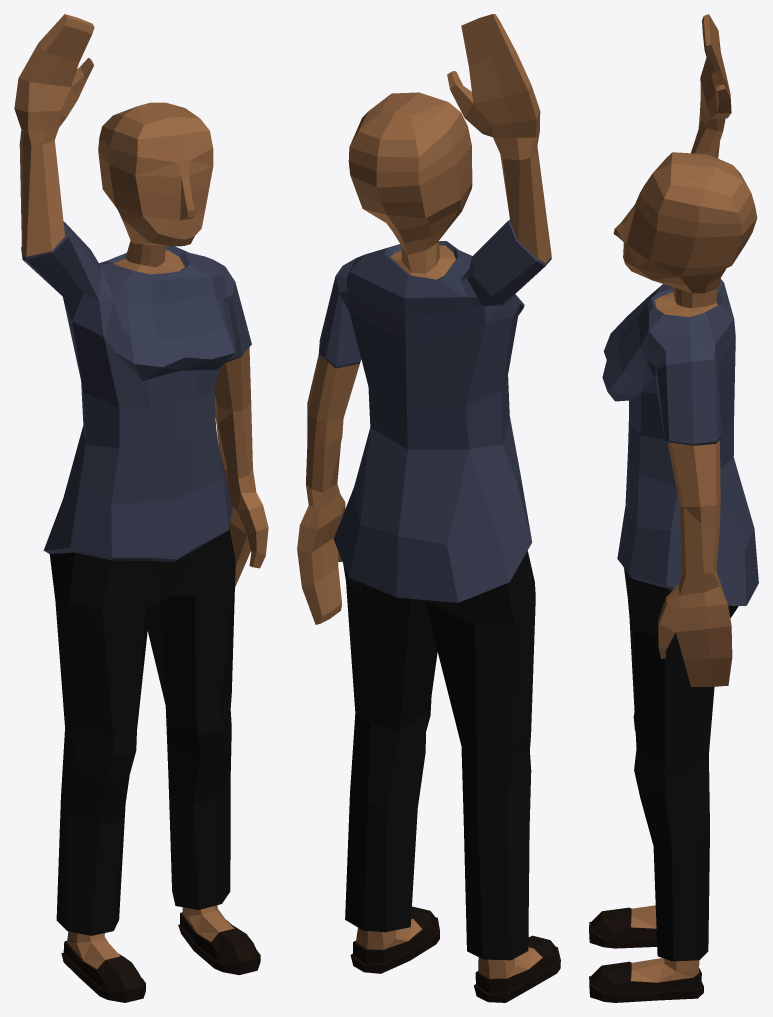
The model's file is Woman_Standing_Waving.obj.
3 renders of one model, left to right at view 1: azimuth 30°, elevation 25°; view 2: azimuth 150°, elevation 25°; view 3: azimuth 270°, elevation 25°, orthographic. The views are drawn at different scales.
Visible parts, largest first — view 1: Woman_Standing_Waving_Cylinder.011; view 2: Woman_Standing_Waving_Cylinder.011; view 3: Woman_Standing_Waving_Cylinder.011.
Part boxes in pixels (x1=…): Woman_Standing_Waving_Cylinder.011: x1=14, y1=14, x2=268, y2=1002; Woman_Standing_Waving_Cylinder.011: x1=297, y1=14, x2=560, y2=1002; Woman_Standing_Waving_Cylinder.011: x1=589, y1=14, x2=758, y2=1002.
Size of the model in its own units: 1.06 by 4.21 by 0.7037.
